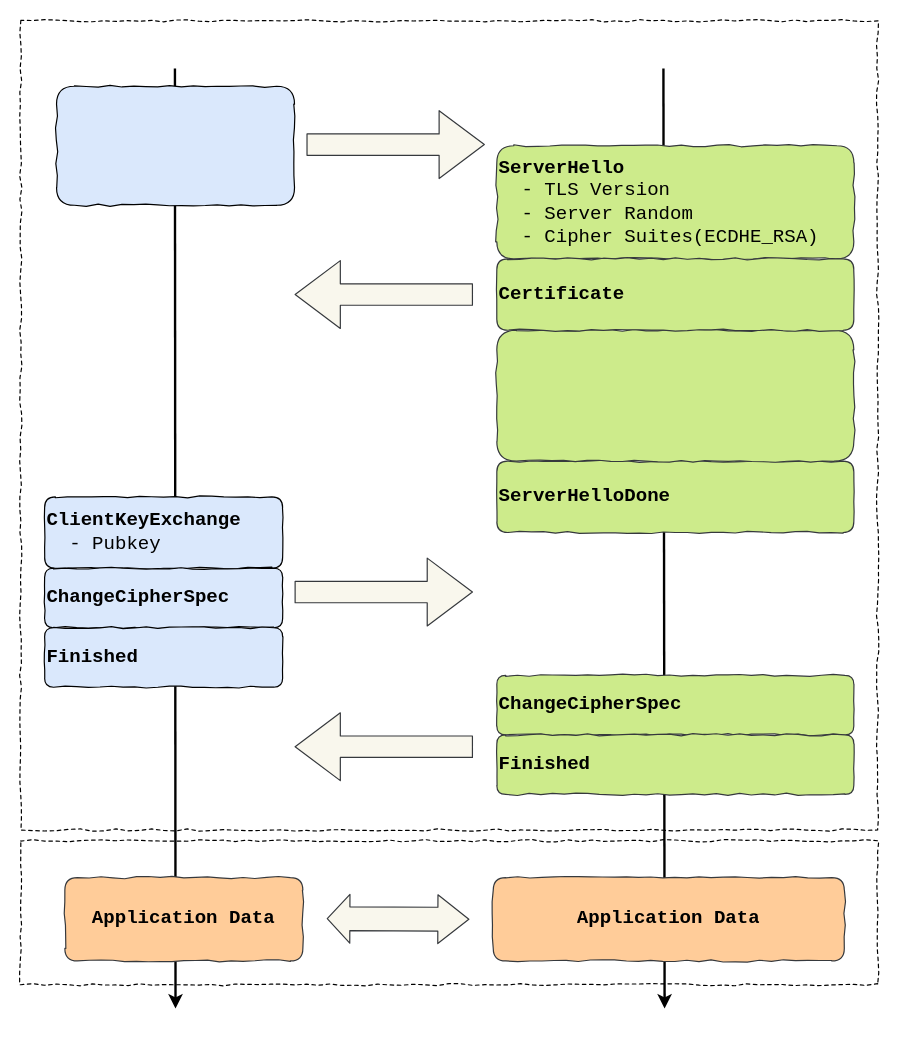
This 898x1040 diagram has some shape labels left out. The shapes that lost their labels are listed below. From the top down, each one's centre as x and y in pixels, then its label:
At point 175,145: "ClientHello - TLS Version - Client Random - Cipher Suites".
At point 675,395: "ServerKeyExchange - Named Curve - Pubkey - Signature".
